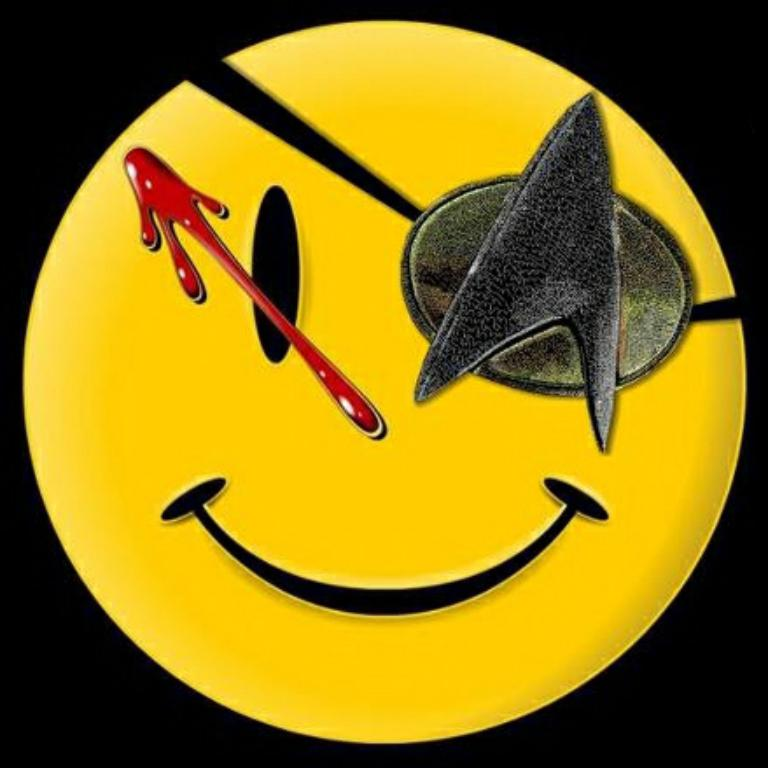plate: (20, 18, 746, 743)
